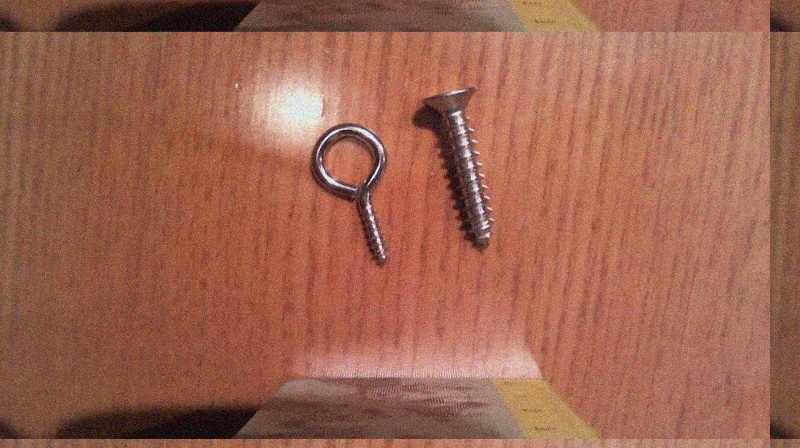O001: (304, 121, 398, 270)
S001: (417, 83, 498, 256)
